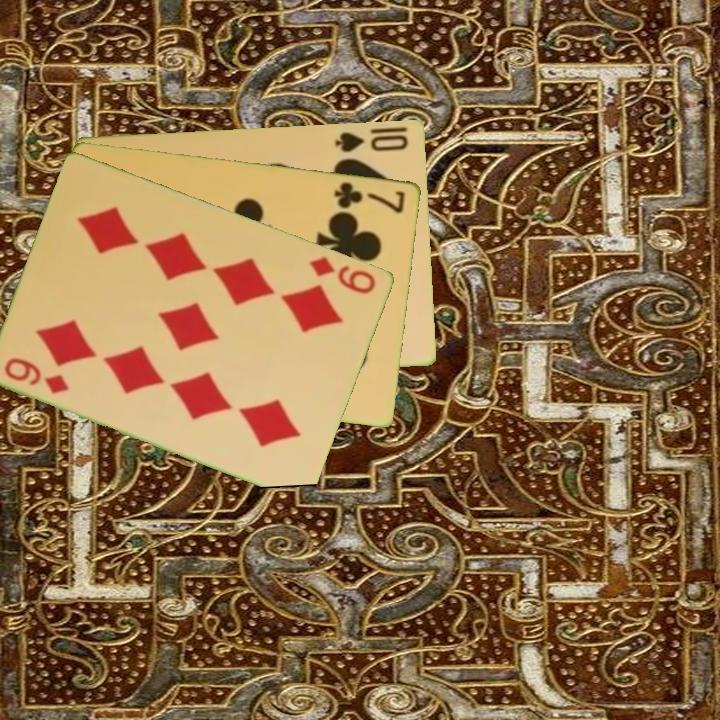10s: (332, 128, 412, 155)
7c: (331, 178, 408, 216)
9d: (306, 253, 379, 297), (1, 353, 72, 397)
